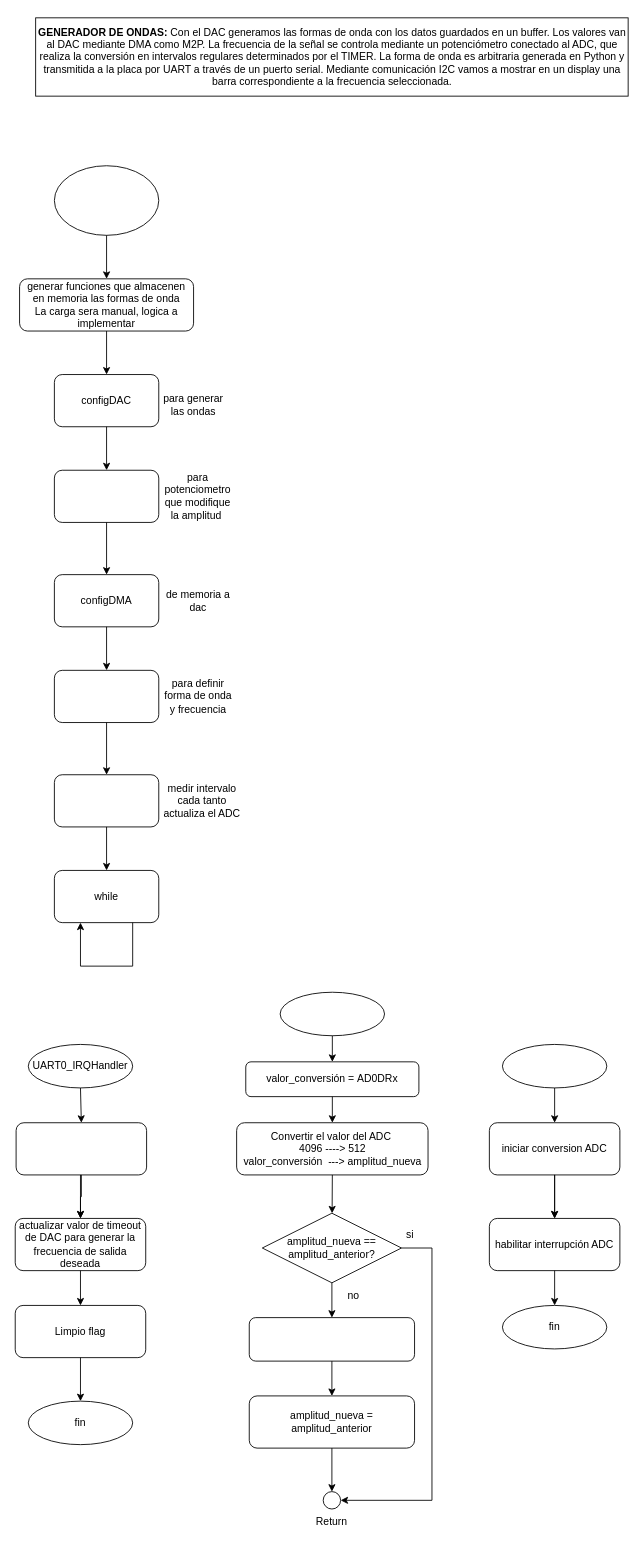
The diagram is 644 pixels wide and 1549 high, and some of its shapes have lost their labels. Each missing label, with the centre of its shape:
ADC_IQRHandler: [332,1013]
configADC: [106,495]
configTIMER: [106,800]
configUART: [106,696]
generar_funcion(amplitud_nueva, ): [331,1339]
main(): [106,200]
TIMERx_IRQHandler: [554,1066]
tomar valor de frecuencia y tipo de onda: [81,1148]
